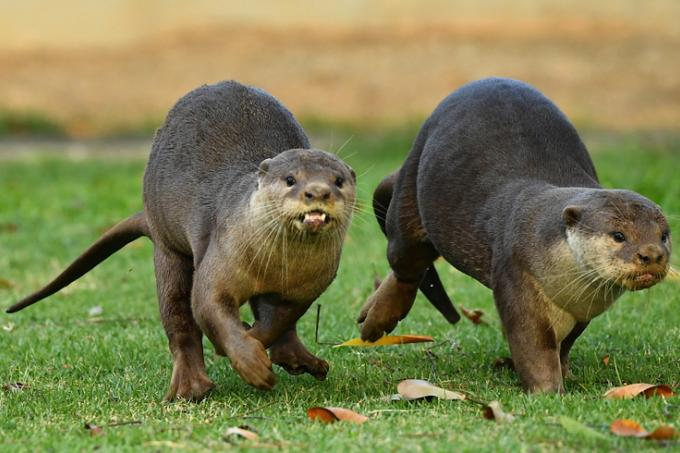otter: (8, 72, 365, 408), (358, 71, 676, 392)
